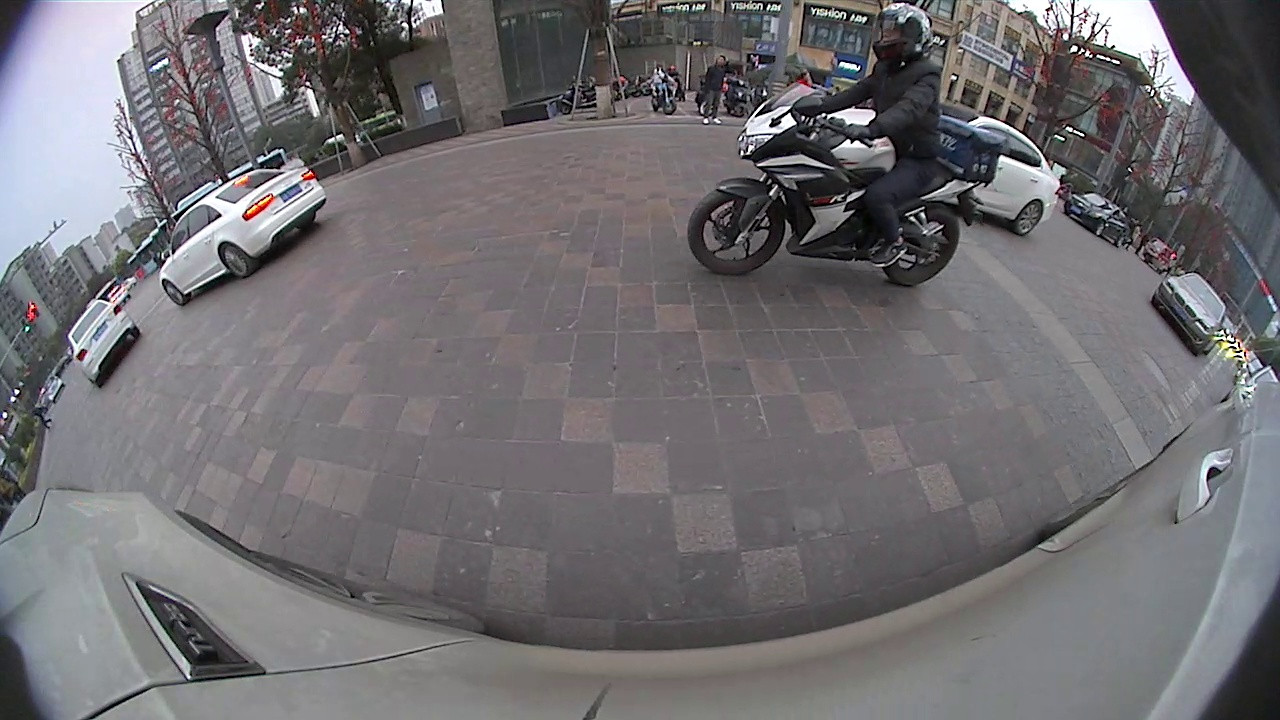car: (157, 164, 329, 307), (932, 99, 1061, 237), (66, 295, 143, 388), (1149, 270, 1229, 357), (1062, 188, 1134, 248)
front: (683, 173, 790, 280), (158, 275, 189, 308)
person: (705, 53, 728, 124)
rear: (878, 198, 963, 290), (215, 240, 256, 282), (1008, 198, 1047, 239)
rider: (687, 1, 1003, 290)
